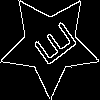E: (25, 20, 79, 73)
